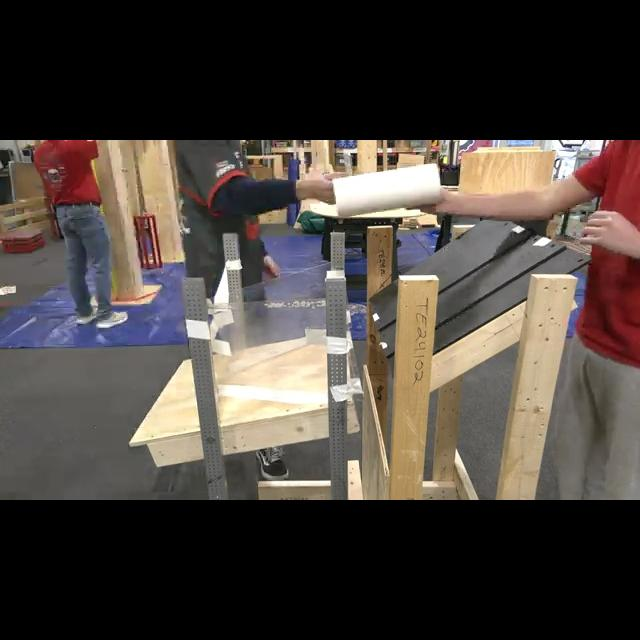CORAL: (330, 162, 442, 218)
